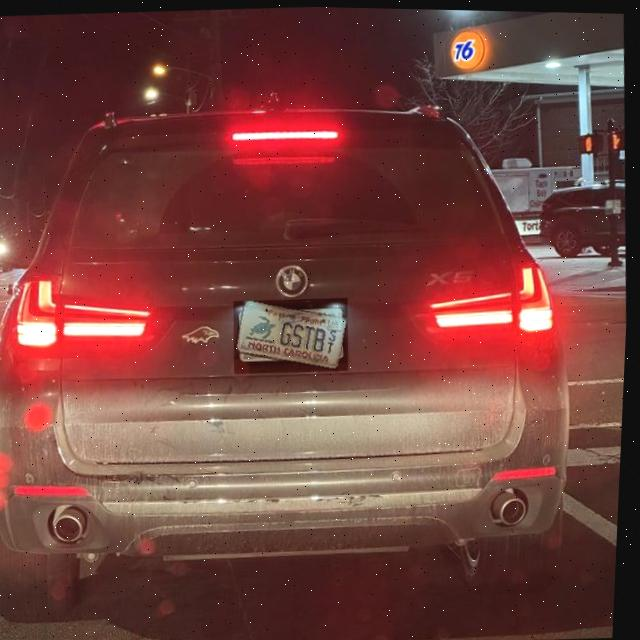LicensePlate: (237, 300, 351, 370)
